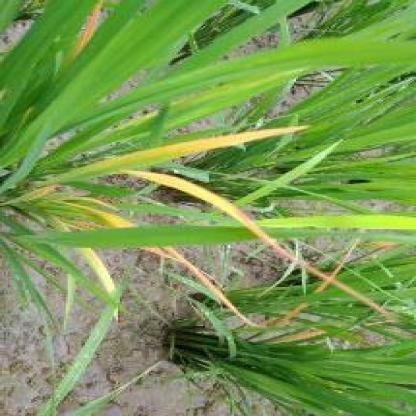Tungro: (139, 174, 416, 331), (27, 123, 328, 197)
